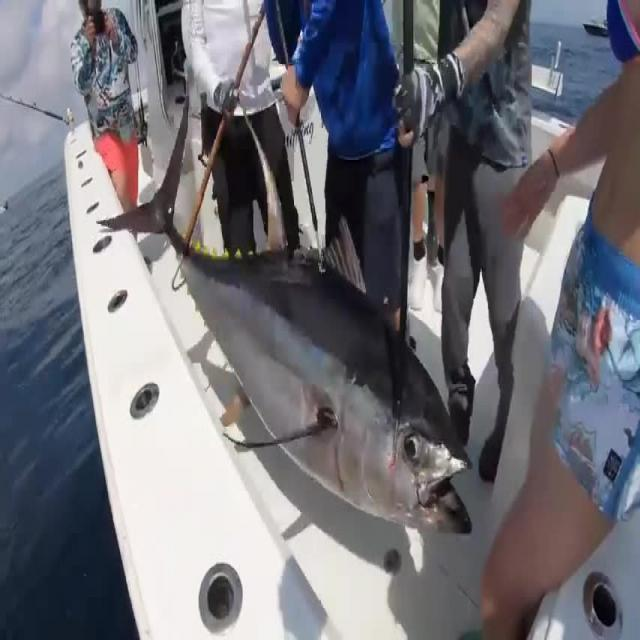Yellowfin Tuna: (94, 73, 473, 540)
